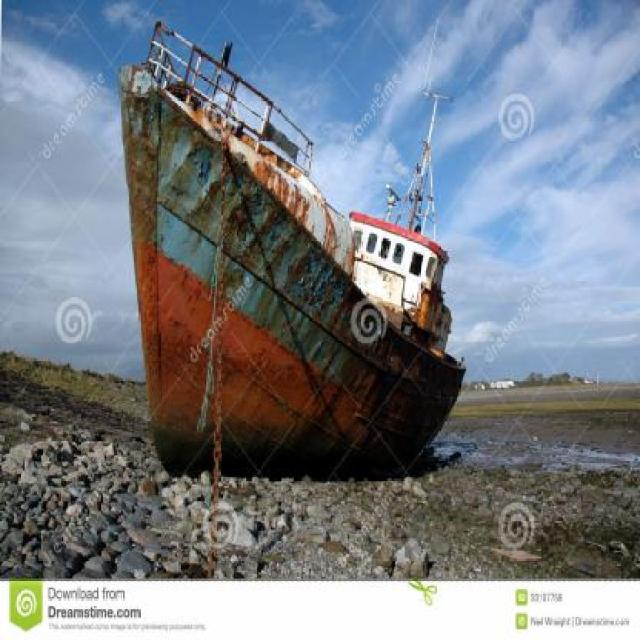corrosion: (122, 20, 472, 474)
